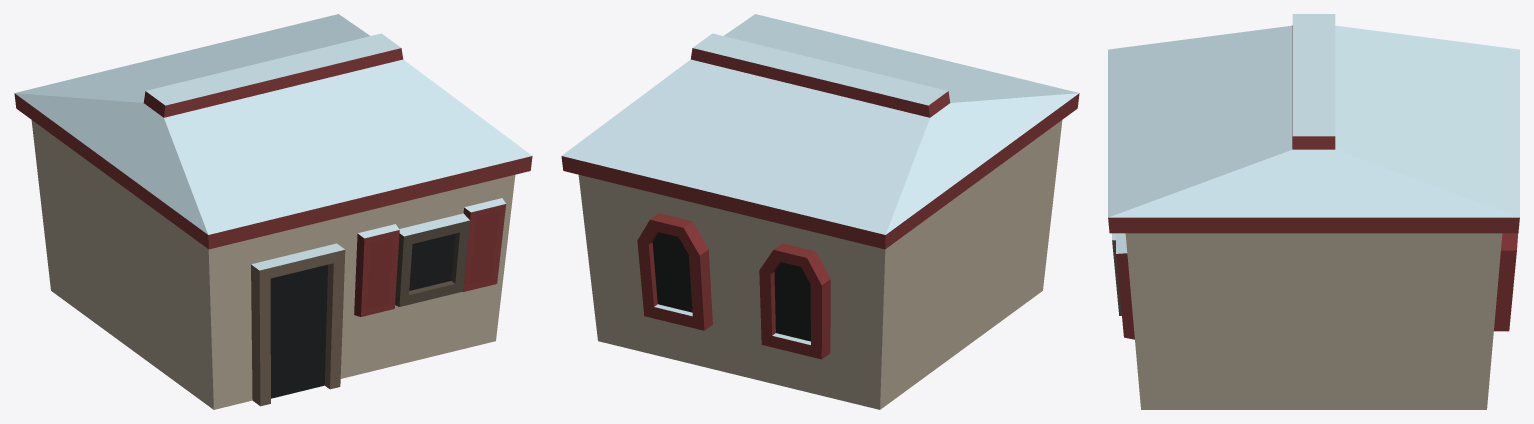
File: SM_Bld_Pirates_House_01_Snow.fbx
The picture shows the model from 3 angles, left to right: view 1: azimuth 30°, elevation 25°; view 2: azimuth 150°, elevation 25°; view 3: azimuth 270°, elevation 25°; orthographic projection. The views are drawn at different scales.
Visible parts, largest first — view 1: SM_Bld_Pirates_House_01_Snow; view 2: SM_Bld_Pirates_House_01_Snow; view 3: SM_Bld_Pirates_House_01_Snow.
Part boxes in pixels (box(x1,y1,x2,y2)): SM_Bld_Pirates_House_01_Snow: box(14, 14, 532, 409); SM_Bld_Pirates_House_01_Snow: box(561, 14, 1079, 409); SM_Bld_Pirates_House_01_Snow: box(1108, 14, 1519, 409).
Bounding box in the file's own units: 103 × 74.99 × 107.
1 material, 1 textured.
